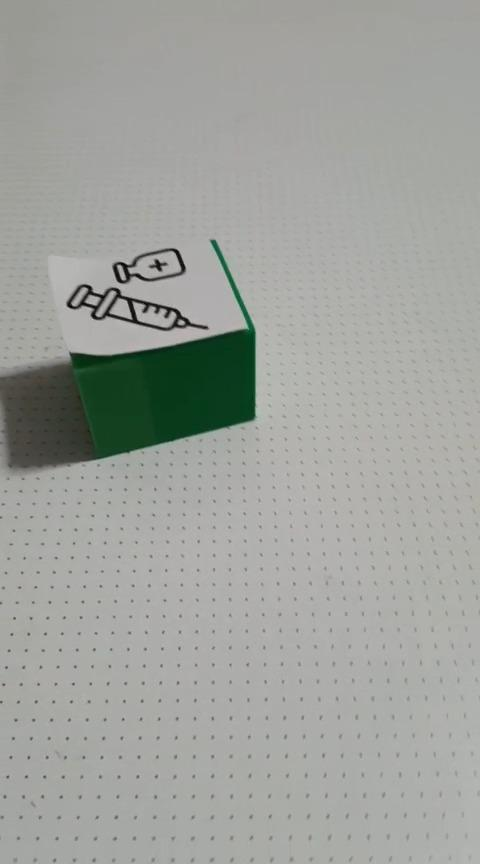antiseptic cream: (46, 235, 257, 459)
